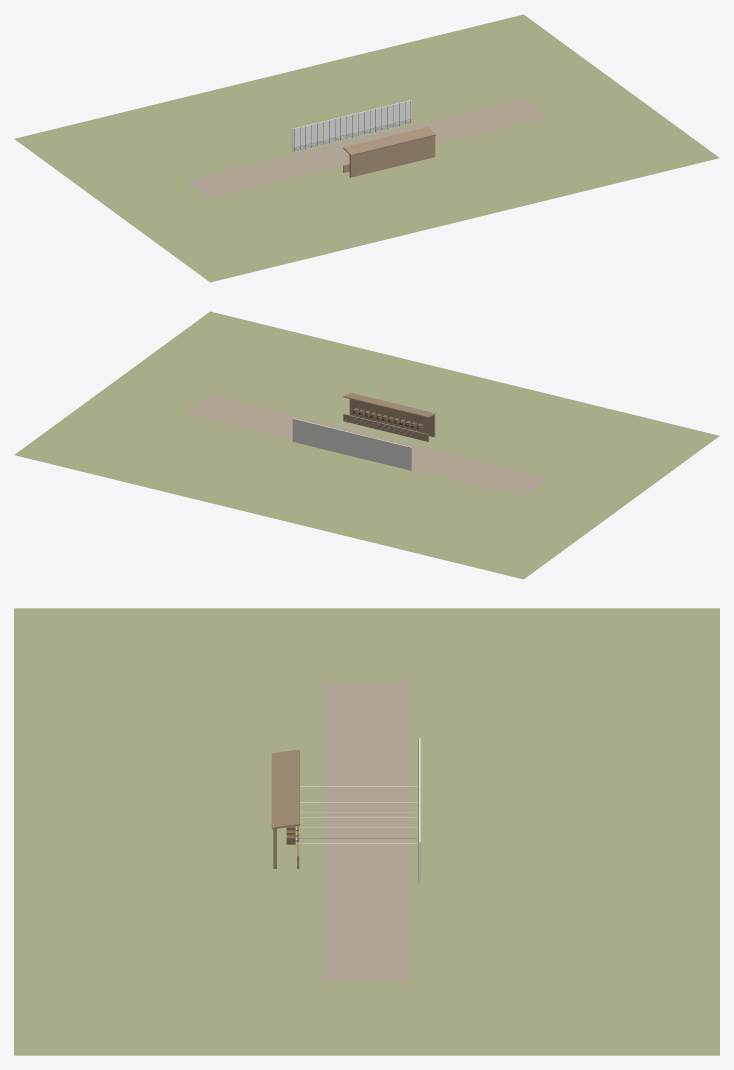
3 renders of one model, top to bottom at view 1: azimuth 30°, elevation 25°; view 2: azimuth 150°, elevation 25°; view 3: azimuth 270°, elevation 25°, orthographic. The views are drawn at different scales.
Parts seen in each view (by area): view 1: ground, track, backdrop, shed_back, shed_roof; view 2: ground, track, backdrop, shed_back, shed_front_low, shed_roof; view 3: ground, track, shed_roof.
Part boxes in pixels (box(x1,y1,x2,y2)): ground: box(14, 14, 719, 282); track: box(185, 98, 548, 198); backdrop: box(292, 100, 411, 152); shed_back: box(349, 134, 435, 177); shed_roof: box(343, 127, 435, 155); ground: box(14, 311, 719, 579); track: box(185, 395, 548, 495); backdrop: box(292, 418, 411, 470); shed_back: box(349, 393, 435, 437); shed_front_low: box(343, 414, 428, 441); shed_roof: box(343, 393, 435, 417); ground: box(14, 608, 719, 1055); track: box(323, 682, 410, 980); shed_roof: box(271, 749, 299, 829).
Bounding box in the file's own units: 60 × 2.83 × 40.
